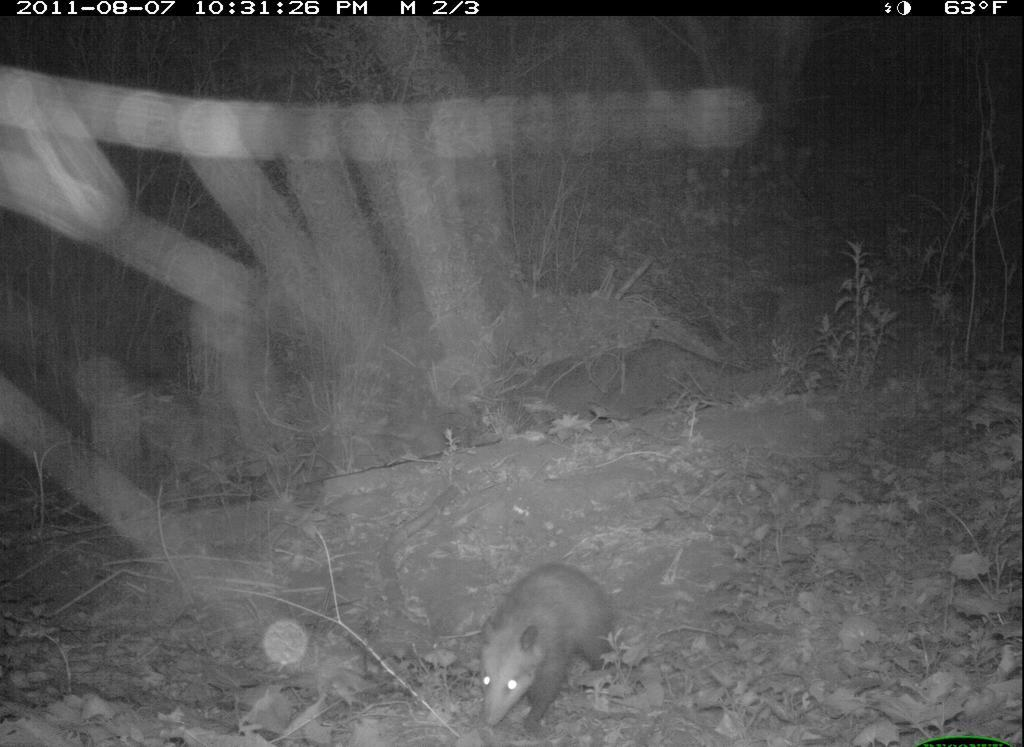opossum: (437, 561, 657, 745)
